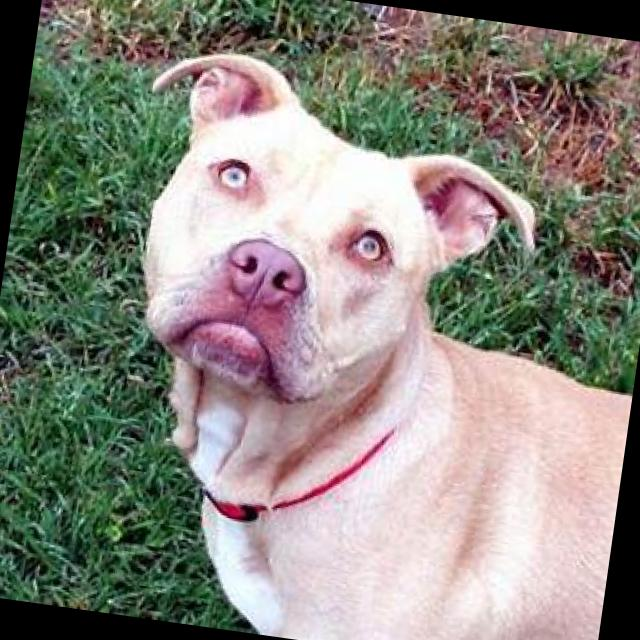animal: (80, 41, 640, 640)
